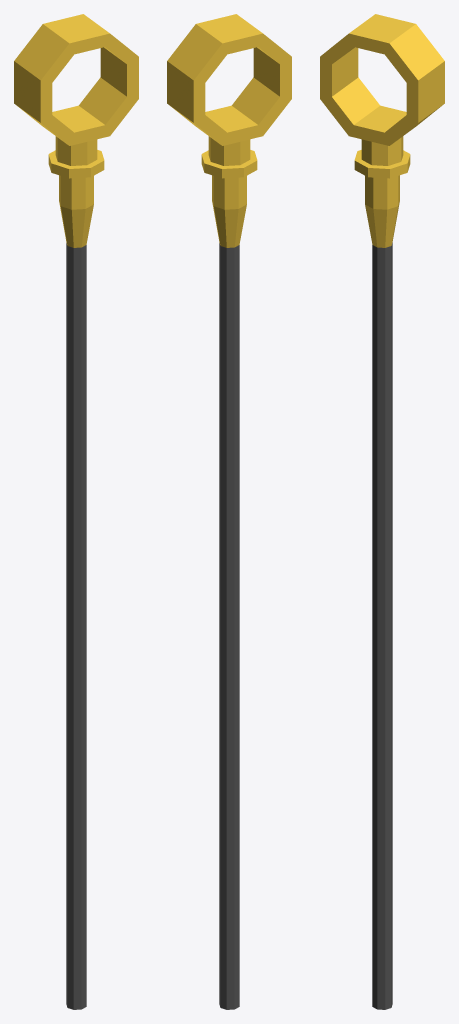
File: Oliepeil.fbx
3 renders of one model, left to right at view 1: azimuth 30°, elevation 25°; view 2: azimuth 210°, elevation 25°; view 3: azimuth 330°, elevation 25°, orthographic.
Parts seen in each view (by area): view 1: OliePeil; view 2: OliePeil; view 3: OliePeil.
Part boxes in pixels (box(x1,y1,x2,y2)): OliePeil: box(14, 14, 138, 1009); OliePeil: box(167, 14, 291, 1009); OliePeil: box(320, 14, 444, 1009).
Size of the model in its own units: 1.43 by 13.57 by 0.7295.
